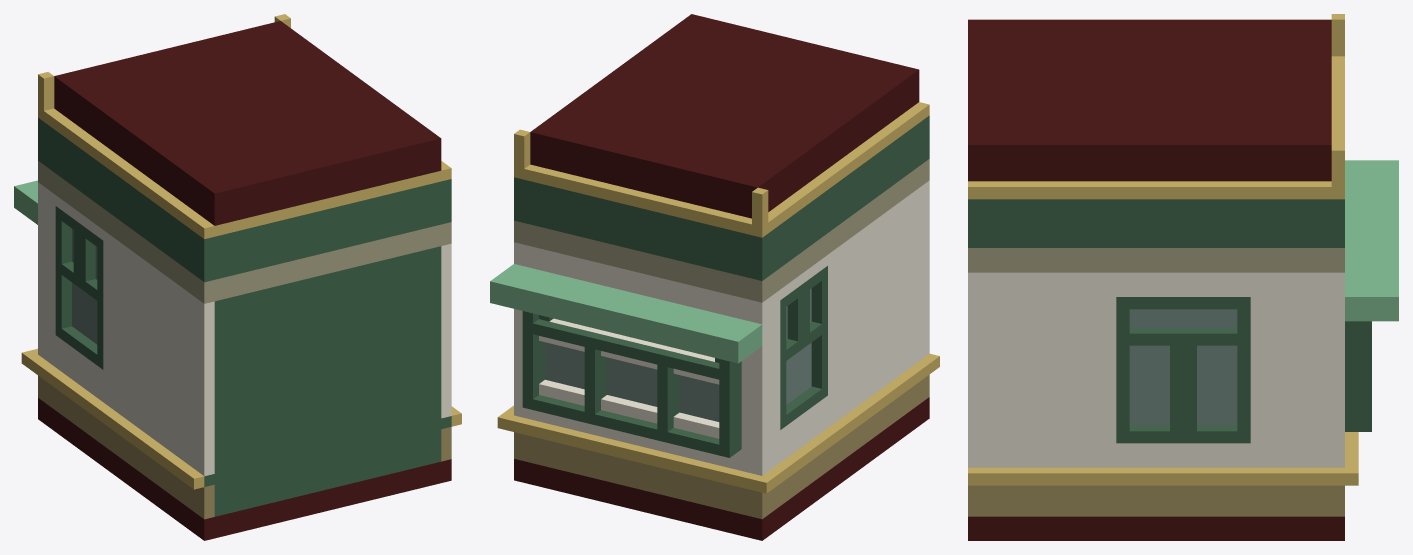
File: tile_2_right_nr_90.obj
3 renders of one model, left to right at view 1: azimuth 30°, elevation 25°; view 2: azimuth 150°, elevation 25°; view 3: azimuth 270°, elevation 25°, orthographic. The views are drawn at different scales.
Bounding box in the file's own units: 2.6 × 3.2 × 3.2.
Materials: 1 (1 with a texture image).
